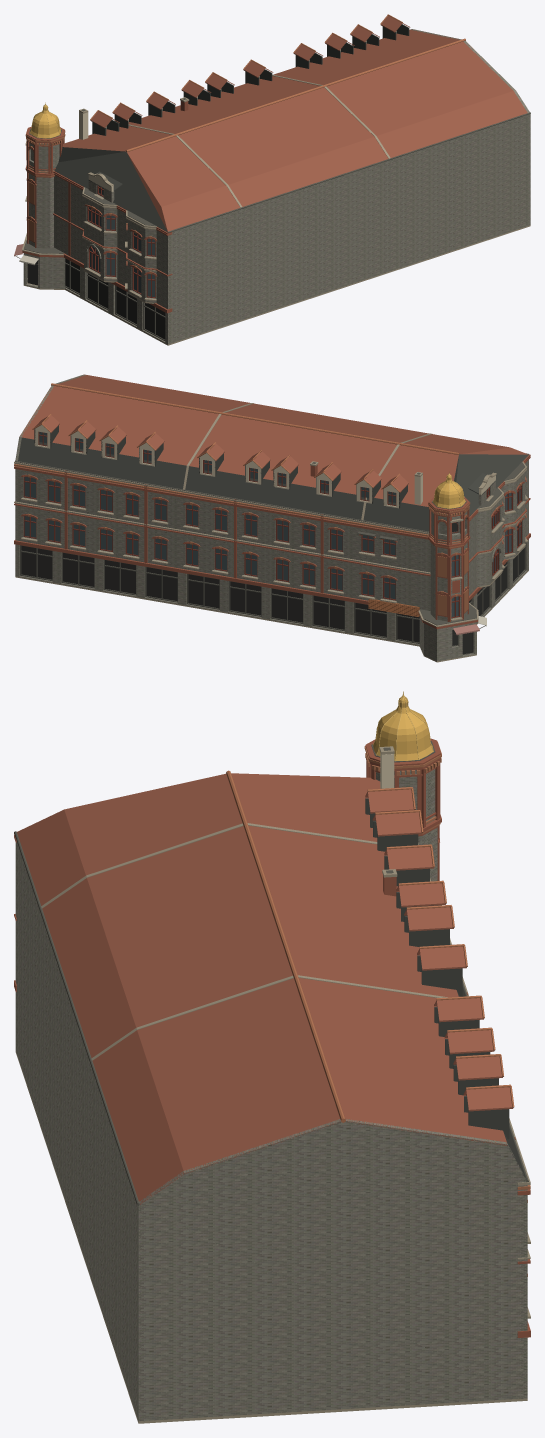
The model's file is hongkou-young-allen-court-gilded-corner-lod.glb.
3 views of the same model, one above another, from view 1: azimuth 30°, elevation 25°; view 2: azimuth 150°, elevation 25°; view 3: azimuth 270°, elevation 25° (orthographic). The views are drawn at different scales.
Parts seen in each view (by area): view 1: 乍浦路260号金顶角楼与老虎窗; view 2: 乍浦路260号金顶角楼与老虎窗; view 3: 乍浦路260号金顶角楼与老虎窗.
Boxes of the visible parts, x1,y1,x2,y2 form: 乍浦路260号金顶角楼与老虎窗: [14, 14, 530, 345]; 乍浦路260号金顶角楼与老虎窗: [14, 374, 530, 662]; 乍浦路260号金顶角楼与老虎窗: [14, 691, 530, 1423].
Bounding box in the file's own units: 44.51 × 16.67 × 23.
17 materials, 1 textured.
